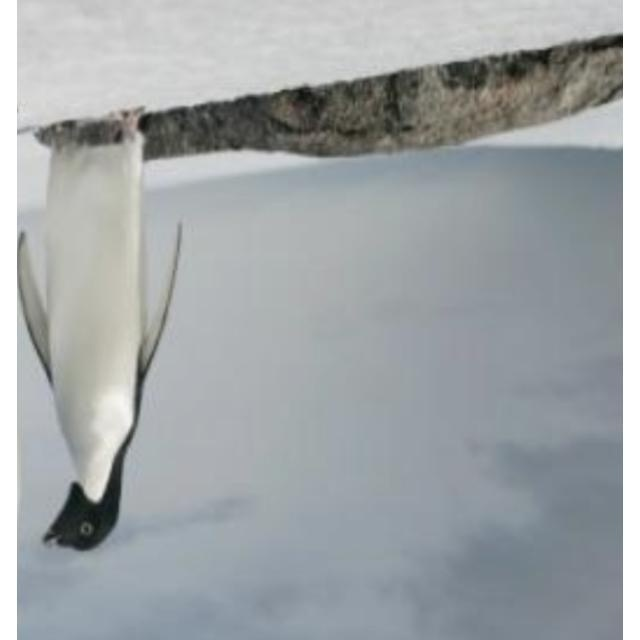penguin: (20, 109, 181, 551)
